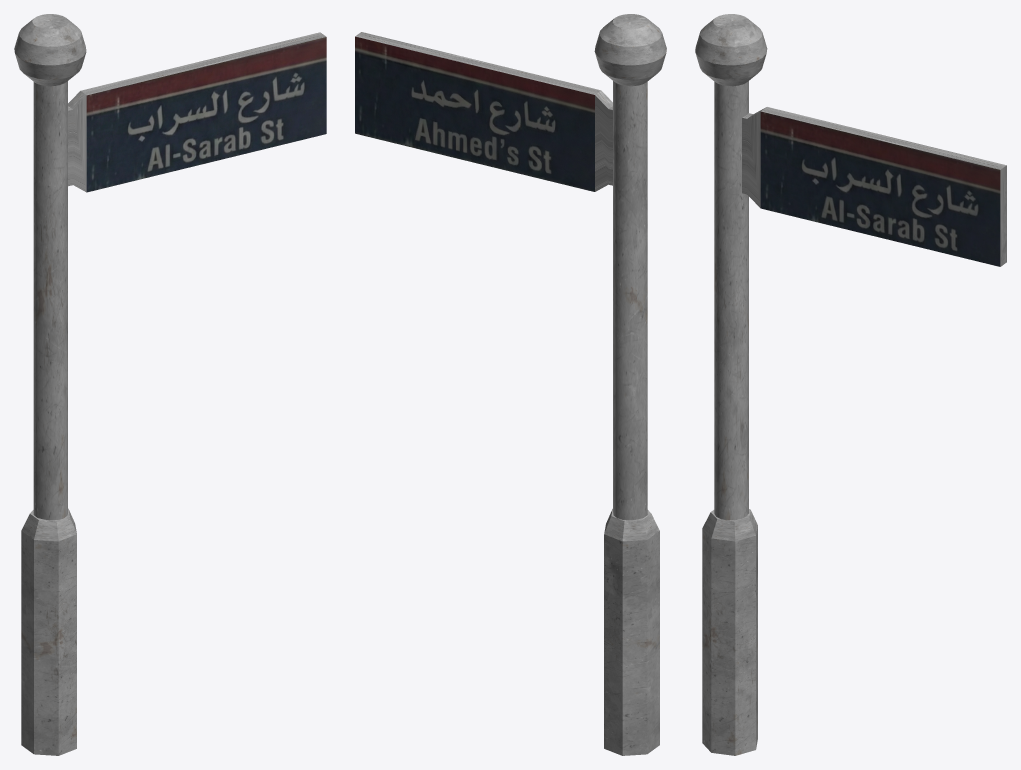
Rendered from STREET BOARD.fbx.
3 renders of one model, left to right at view 1: azimuth 30°, elevation 25°; view 2: azimuth 150°, elevation 25°; view 3: azimuth 330°, elevation 25°, orthographic.
Parts seen in each view (by area): view 1: pCylinder3, pCube1; view 2: pCylinder3, pCube1; view 3: pCylinder3, pCube1.
Boxes of the visible parts, x1=… form: pCylinder3: x1=14, y1=14, x2=86, y2=755; pCube1: x1=68, y1=32, x2=326, y2=192; pCylinder3: x1=594, y1=14, x2=666, y2=755; pCube1: x1=355, y1=32, x2=612, y2=191; pCylinder3: x1=695, y1=14, x2=767, y2=755; pCube1: x1=742, y1=107, x2=1006, y2=266.
Bounding box in the file's own units: 3.48 × 7.89 × 0.7186.
Materials: 3 (3 with a texture image).
